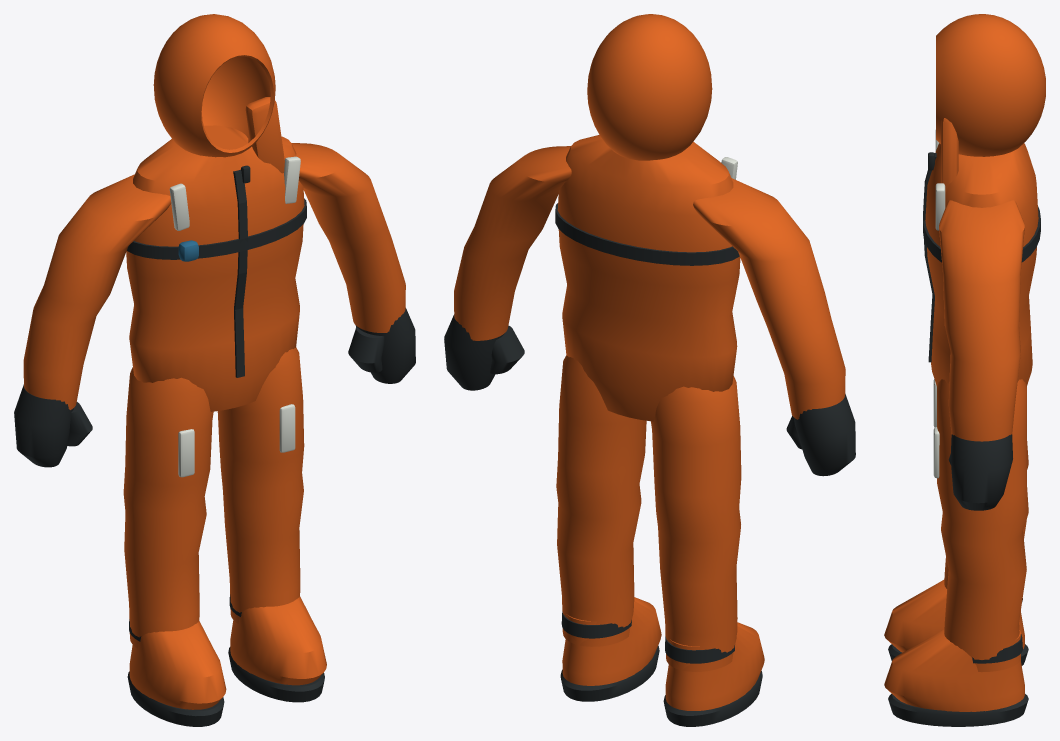
Rendered from A-NEW-20261026-IMMERSION-SURVIVAL-SUIT-001_LOD1_R2.glb.
3 renders of one model, left to right at view 1: azimuth 30°, elevation 25°; view 2: azimuth 150°, elevation 25°; view 3: azimuth 270°, elevation 25°, orthographic. The views are drawn at different scales.
Parts seen in each view (by area): view 1: orange torso garment, integrated orange leg, integrated orange leg.001, long orange sleeve, empty hollow integrated hood, long orange sleeve.001, integrated boot foot.001, integrated boot foot, black mitten body, black chest strap, black mitten body.001, raised right neck flap (+8 smaller); view 2: orange torso garment, integrated orange leg, integrated orange leg.001, long orange sleeve, empty hollow integrated hood, long orange sleeve.001, integrated boot foot, integrated boot foot.001, black mitten body, black chest strap, black mitten body.001, dark closed sole (+4 smaller); view 3: long orange sleeve.001, integrated orange leg.001, empty hollow integrated hood, orange torso garment, integrated boot foot.001, black mitten body.001, integrated boot foot, dark closed sole.001, raised right neck flap, black chest strap, dark ankle band.001, shoulder pale patch.001 (+1 smaller).
Boxes of the visible parts, x1,y1,x2,y2 form: orange torso garment: [126, 125, 304, 411]; integrated orange leg: [123, 367, 213, 648]; integrated orange leg.001: [217, 347, 304, 623]; long orange sleeve: [23, 174, 171, 409]; empty hollow integrated hood: [153, 14, 275, 157]; long orange sleeve.001: [291, 143, 405, 332]; integrated boot foot.001: [230, 596, 326, 685]; integrated boot foot: [129, 621, 226, 709]; black mitten body: [14, 384, 73, 467]; black chest strap: [127, 198, 306, 259]; black mitten body.001: [355, 308, 415, 383]; raised right neck flap: [245, 97, 284, 173]; orange torso garment: [557, 135, 740, 421]; integrated orange leg: [651, 376, 741, 671]; integrated orange leg.001: [556, 355, 646, 646]; long orange sleeve: [693, 178, 845, 419]; empty hollow integrated hood: [587, 14, 712, 160]; long orange sleeve.001: [454, 146, 571, 340]; integrated boot foot: [665, 622, 764, 710]; integrated boot foot.001: [562, 597, 661, 685]; black mitten body: [793, 394, 855, 476]; black chest strap: [555, 203, 739, 265]; black mitten body.001: [444, 314, 504, 390]; dark closed sole: [663, 671, 762, 726]; long orange sleeve.001: [939, 200, 1024, 441]; integrated orange leg.001: [937, 379, 1028, 672]; empty hollow integrated hood: [936, 14, 1045, 156]; orange torso garment: [925, 143, 1038, 386]; integrated boot foot.001: [884, 629, 1024, 711]; black mitten body.001: [950, 434, 1012, 510]; integrated boot foot: [884, 579, 1024, 652]; dark closed sole.001: [888, 693, 1028, 726]; raised right neck flap: [941, 118, 958, 193]; black chest strap: [923, 206, 1040, 262]; dark ankle band.001: [972, 634, 1022, 663]; shoulder pale patch.001: [935, 183, 945, 230].
Bounding box in the file's own units: 1.17 × 1.88 × 0.4136.
